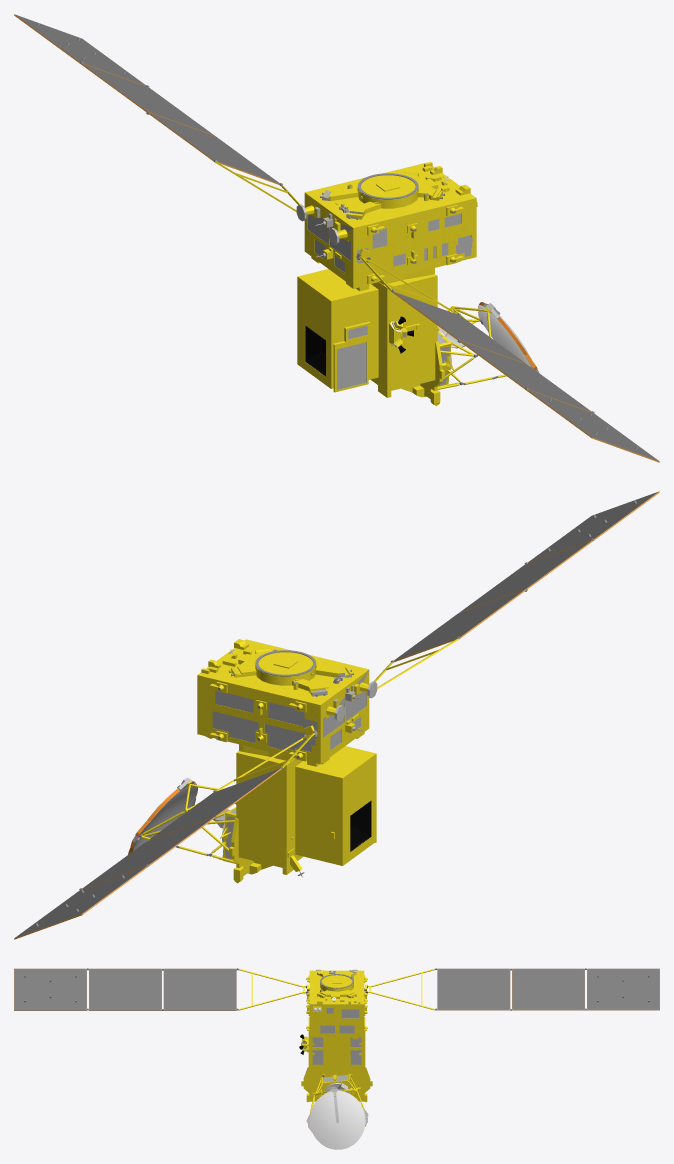
File: ggl3.glb
3 renders of one model, top to bottom at view 1: azimuth 30°, elevation 25°; view 2: azimuth 150°, elevation 25°; view 3: azimuth 270°, elevation 25°, orthographic. The views are drawn at different scales.
Parts seen in each view (by area): view 1: GOSAT-GW_MB, GOSAT-GW_TANSO, GOSAT-GW_IB, GOSAT-GW_SAP001, GOSAT-GW_SAP002, GOSAT-GW_AMSR_antenna; view 2: GOSAT-GW_MB, GOSAT-GW_TANSO, GOSAT-GW_IB, GOSAT-GW_SAP002, GOSAT-GW_SAP001, GOSAT-GW_AMSR_antenna; view 3: GOSAT-GW_SAP001, GOSAT-GW_SAP002, GOSAT-GW_MB, GOSAT-GW_AMSR_antenna, GOSAT-GW_IB.
Part boxes in pixels (box(x1,y1,x2,y2)): GOSAT-GW_MB: box(296, 162, 477, 291); GOSAT-GW_TANSO: box(297, 269, 378, 392); GOSAT-GW_IB: box(370, 274, 444, 406); GOSAT-GW_SAP001: box(356, 248, 659, 462); GOSAT-GW_SAP002: box(14, 14, 299, 211); GOSAT-GW_AMSR_antenna: box(437, 302, 539, 389); GOSAT-GW_MB: box(197, 639, 377, 766); GOSAT-GW_TANSO: box(295, 746, 376, 865); GOSAT-GW_IB: box(229, 751, 304, 883); GOSAT-GW_SAP002: box(14, 725, 317, 939); GOSAT-GW_SAP001: box(374, 491, 659, 688); GOSAT-GW_AMSR_antenna: box(128, 777, 236, 863); GOSAT-GW_SAP001: box(14, 968, 308, 1010); GOSAT-GW_SAP002: box(365, 968, 659, 1010); GOSAT-GW_MB: box(306, 969, 367, 1039); GOSAT-GW_AMSR_antenna: box(306, 1074, 368, 1149); GOSAT-GW_IB: box(299, 1017, 372, 1102).
Bounding box in the file's own units: 5.31 × 5.11 × 23.05.
5 materials, 5 textured.
